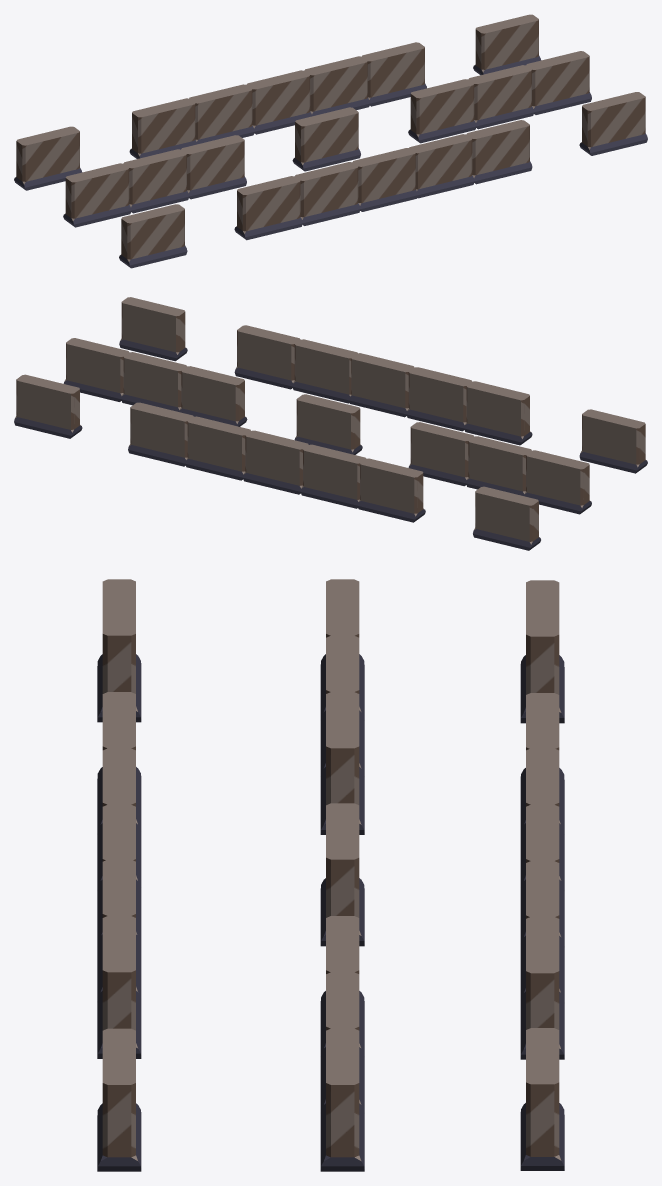
File: ChurchWalls.fbx
3 views of the same model, one above another, from view 1: azimuth 30°, elevation 25°; view 2: azimuth 150°, elevation 25°; view 3: azimuth 270°, elevation 25° (orthographic). The views are drawn at different scales.
Parts seen in each view (by area): view 1: Wall2.008, Wall3.002, Wall1; view 2: Wall3.002, Wall1, Wall2.008; view 3: Wall2.008, Wall3.002, Wall1.
Boxes of the visible parts, x1,y1,x2,y2 form: Wall2.008: (63,51,591,227); Wall3.002: (119,92,647,268); Wall1: (14,14,541,190); Wall3.002: (119,297,647,473); Wall1: (14,374,540,550); Wall2.008: (63,338,591,514); Wall2.008: (320,579,364,1171); Wall3.002: (97,579,141,1171); Wall1: (520,580,564,1170).
Size of the model in its own units: 35.9 by 3 by 14.02.
Materials: 2 (2 with a texture image).
